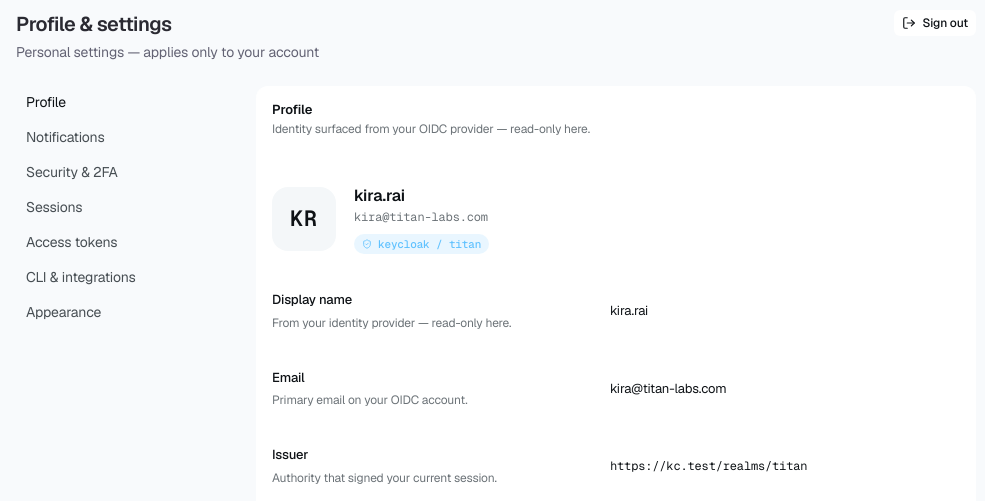
Test: Profile v3 — settings-grid + 7-section nav › security section shows 2FA Coming soon badge + Account Console link
The image size is (985, 501).
Expected: the navigation bar with test id "settings-nav" is shown, [16,86,216,329]
Click the button with test id "nav-security".
click(116, 172)  # box [16,156,216,189]
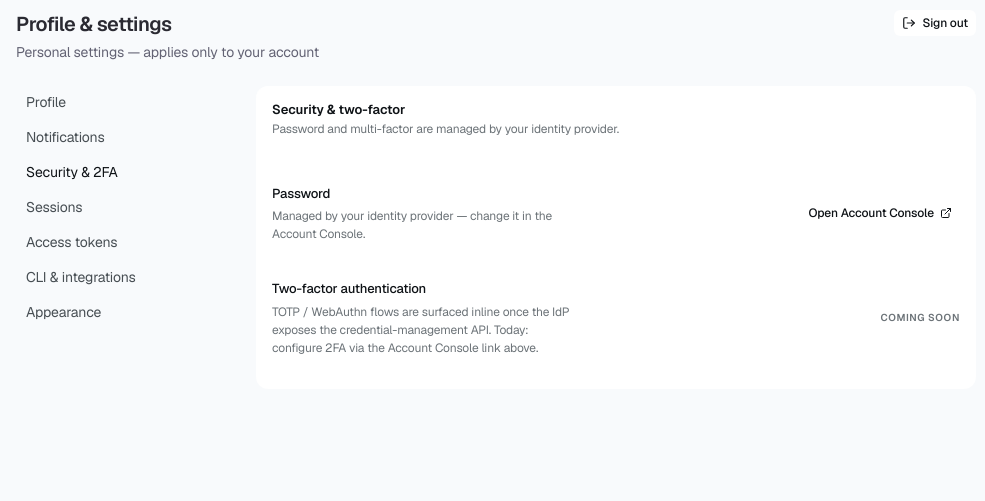
Expected: the text "coming soon" is shown, [880,310,960,325]
